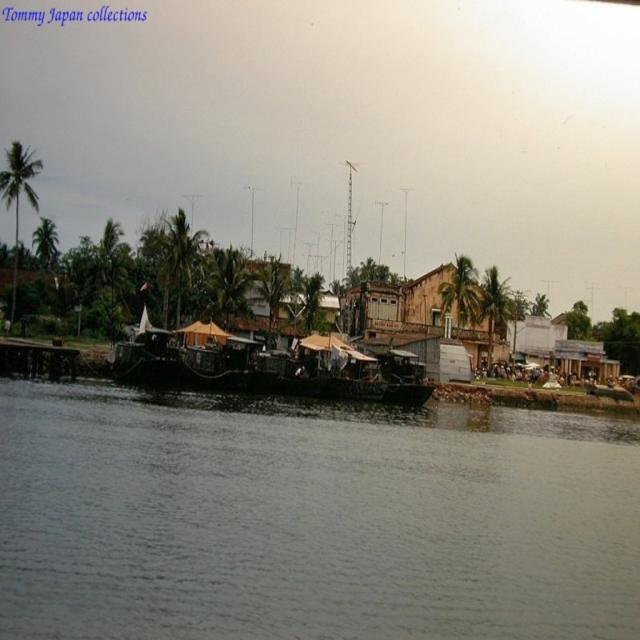Boat: (288, 326, 434, 408)
